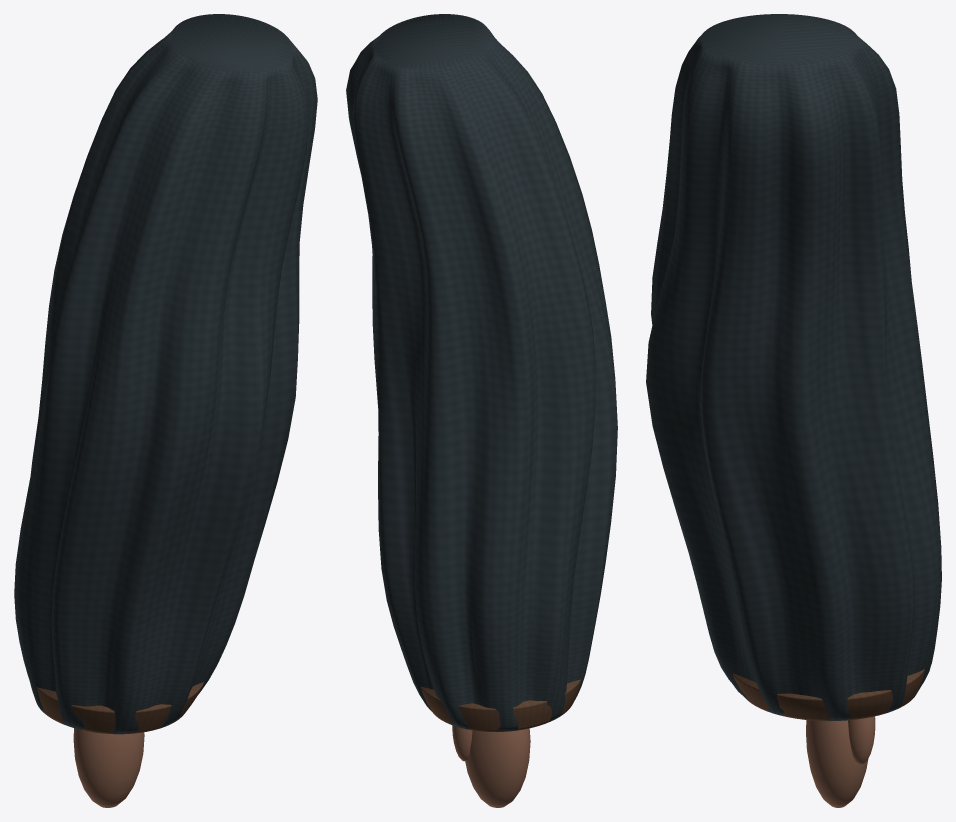
The model's file is PilgrimLeftSleeve.glb.
3 views of the same model, side by side, from view 1: azimuth 30°, elevation 25°; view 2: azimuth 150°, elevation 25°; view 3: azimuth 270°, elevation 25° (orthographic). The views are drawn at different scales.
Visible parts, largest first — view 1: PilgrimLeftSleeve; view 2: PilgrimLeftSleeve; view 3: PilgrimLeftSleeve.
Part boxes in pixels (bbox=[...]): PilgrimLeftSleeve: bbox=[14, 14, 317, 807]; PilgrimLeftSleeve: bbox=[346, 14, 617, 807]; PilgrimLeftSleeve: bbox=[646, 14, 941, 807].
Size of the model in its own units: 0.2125 by 0.608 by 0.1997.
Materials: 3 (2 with a texture image).
